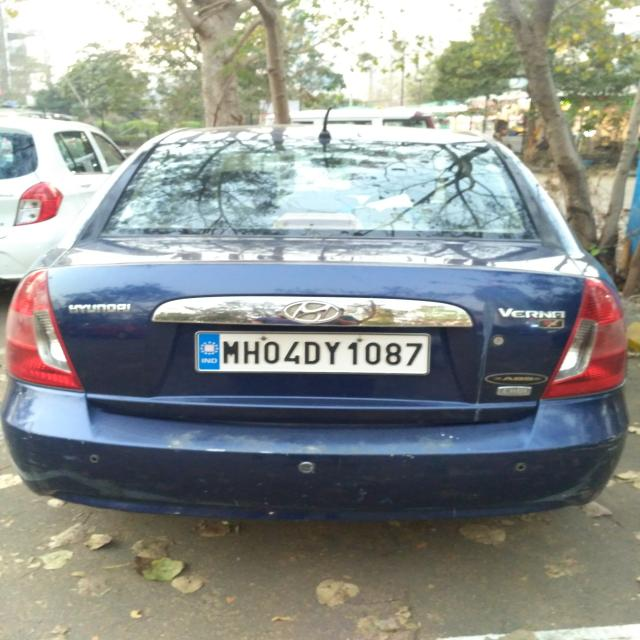Number-Plate: (196, 329, 432, 373)
